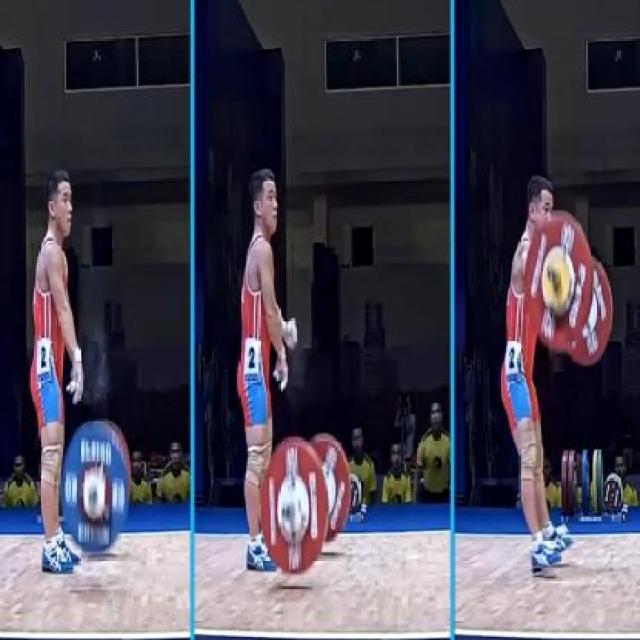Barbell: (274, 472, 314, 550), (538, 242, 576, 320), (77, 460, 114, 526)
